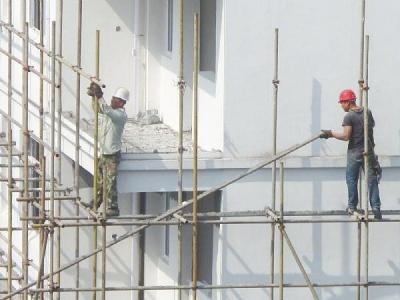helmet: (107, 84, 132, 111), (337, 88, 359, 112)
